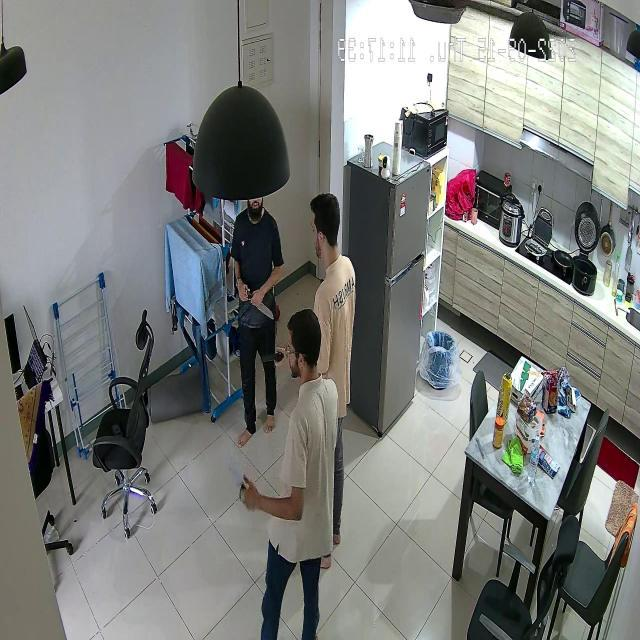Knife: (241, 283, 277, 324)
